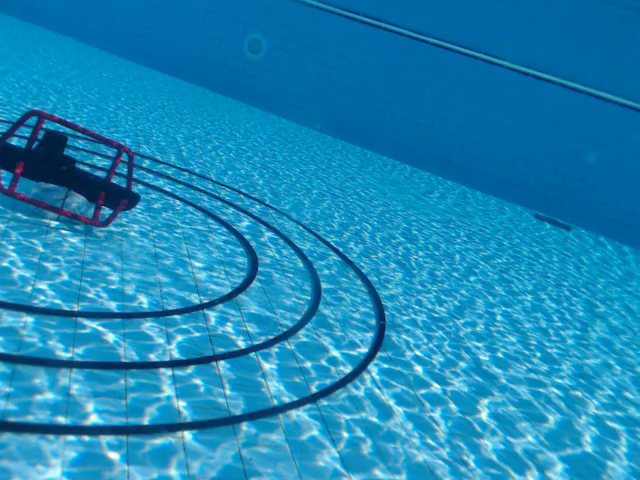submarine: (1, 108, 141, 230)
